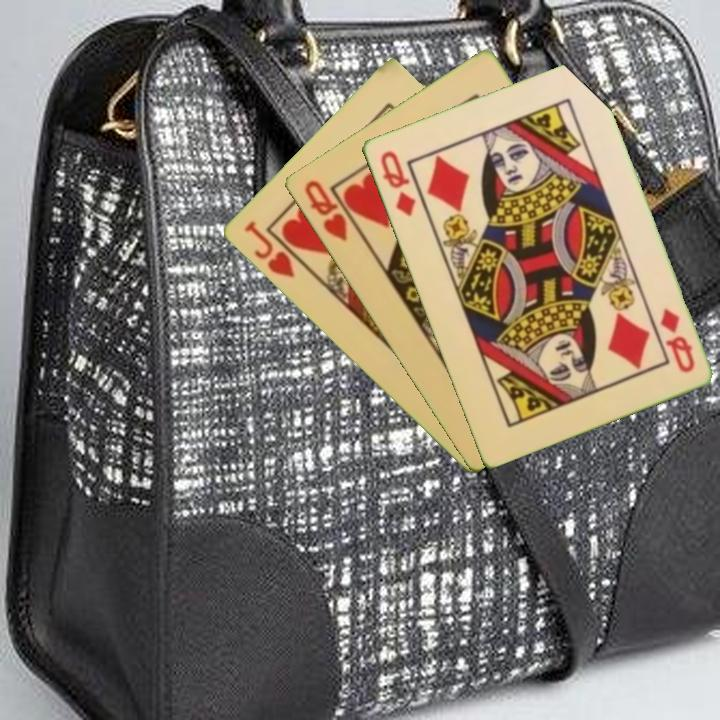Jh: (239, 217, 297, 281)
Qd: (376, 147, 418, 219), (655, 304, 697, 376)
Qh: (300, 176, 350, 245)
